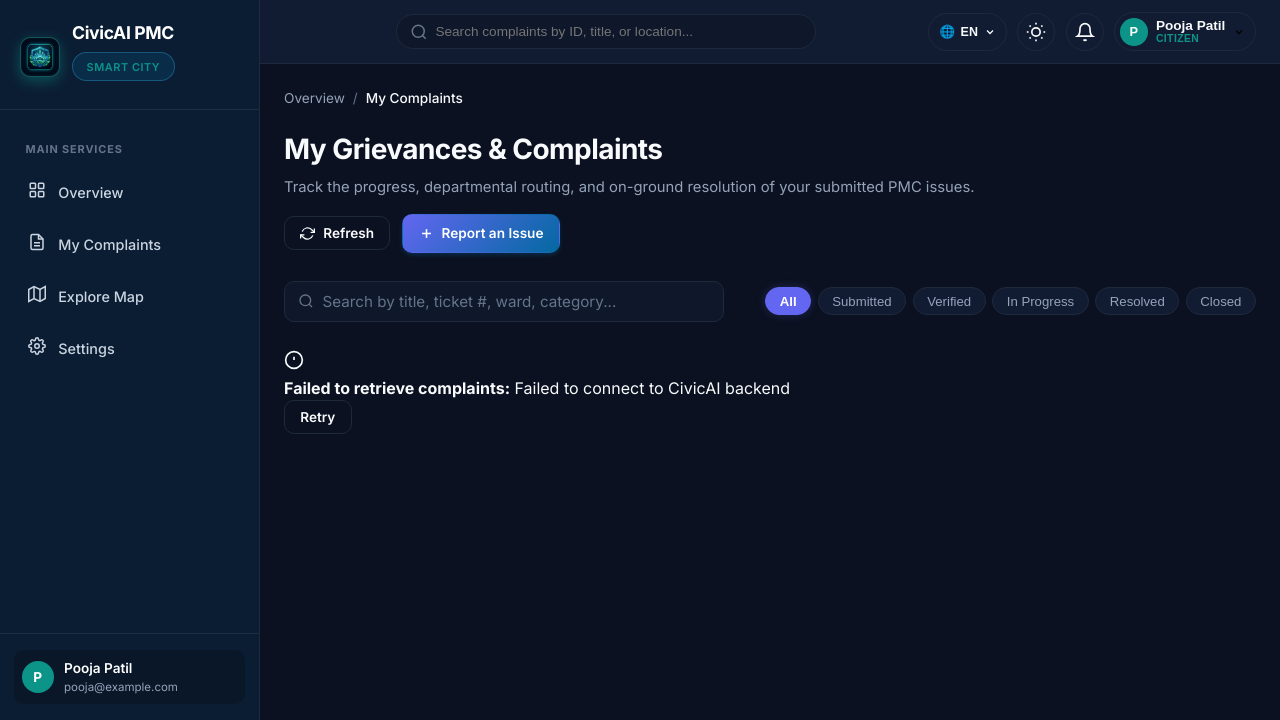
Test: ComplaintListPage Component › renders an error message with a retry button when fetch fails
The image size is (1280, 720).
Expected: the text "Failed to connect to CivicAI backend" is shown, [514,378,790,398]
Click the button "Retry". click: coordinates (318, 417)
box: [284,400,352,434]
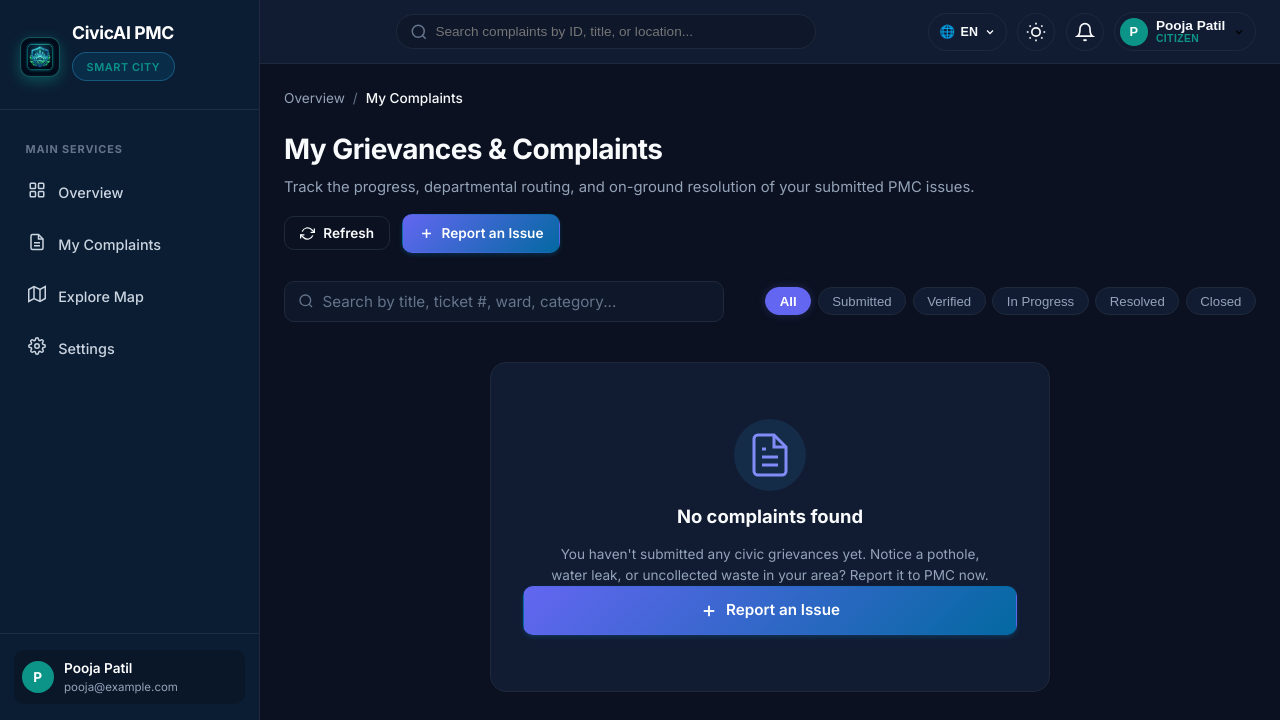
Expected: the heading "No complaints found" is shown, [677,503,863,531]
